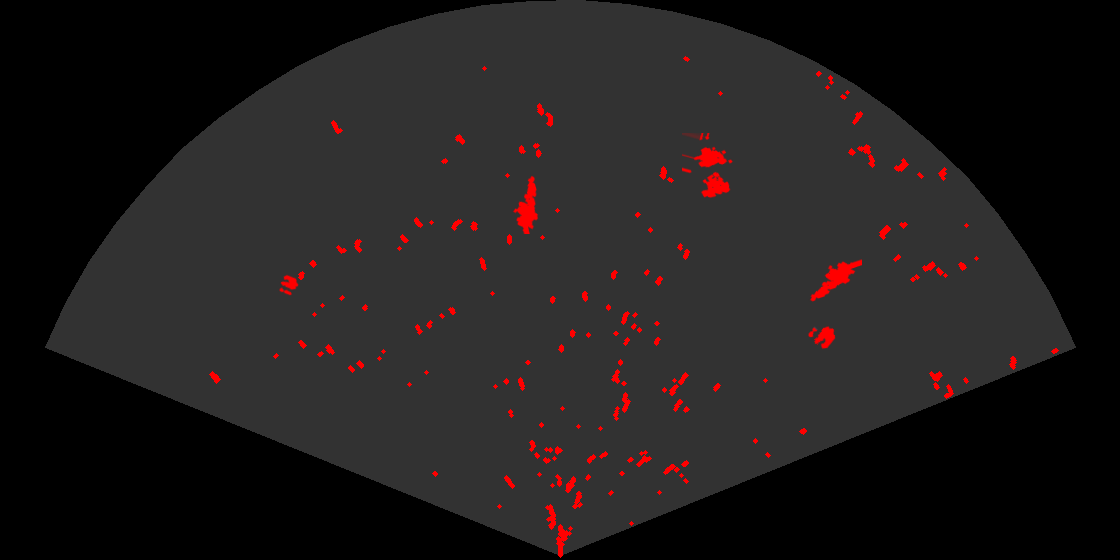ball: (807, 325, 837, 351), (278, 273, 300, 297)
cage: (682, 133, 734, 199)
frogman: (808, 258, 862, 303), (511, 174, 540, 234)
